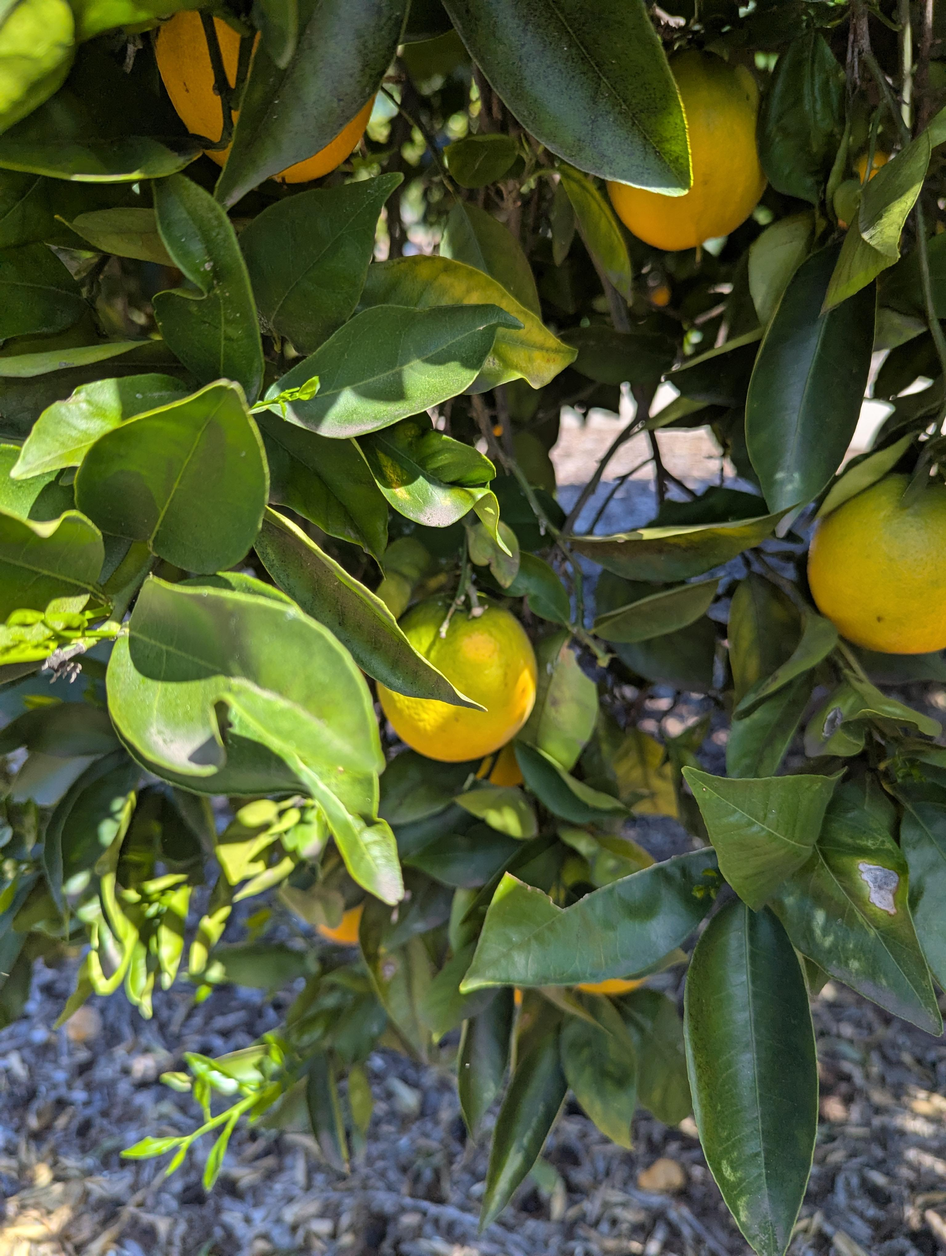orange: (608, 50, 766, 250), (378, 598, 537, 761), (808, 475, 946, 654), (155, 10, 242, 167), (273, 97, 373, 183), (476, 743, 523, 787), (317, 903, 363, 945), (575, 979, 644, 995)
